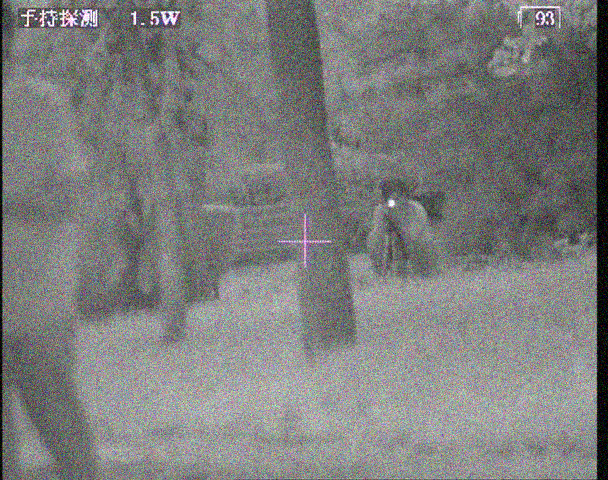my: (387, 196, 396, 209)
